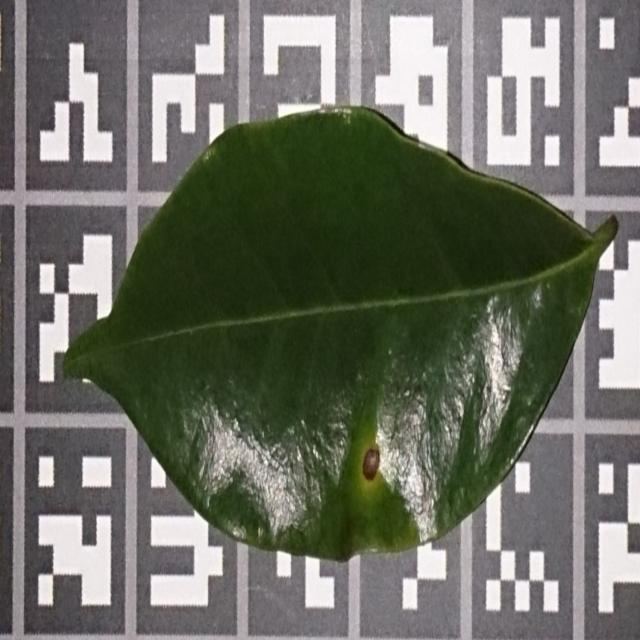Enfermedad-Mancha-de-hierro: (62, 106, 619, 564)
